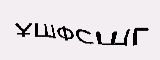Г: (131, 27, 151, 48)
С: (75, 28, 94, 46)
Ф: (56, 26, 73, 42)
Ш: (95, 28, 129, 46), (33, 23, 55, 39)
Ұ: (13, 22, 33, 39)
